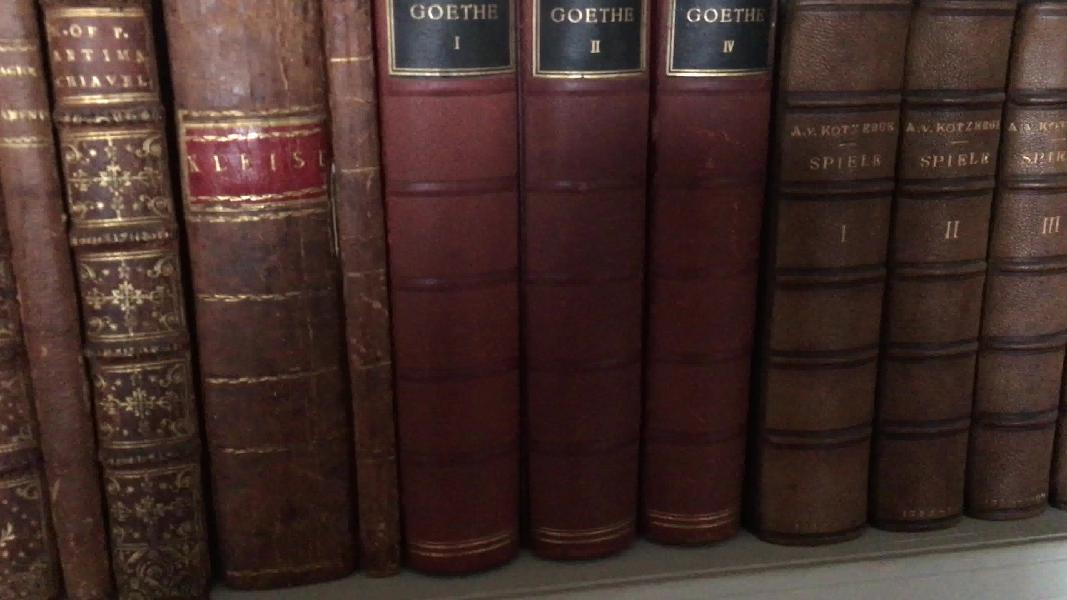Aa6-10: (324, 7, 412, 583)
Aa6-11_13: (377, 3, 773, 572)
Aa6-14_17: (779, 6, 1067, 520)
Aa6-7: (2, 12, 117, 600)
Aa6-8: (35, 1, 221, 598)
Aa6-9: (159, 6, 362, 598)
